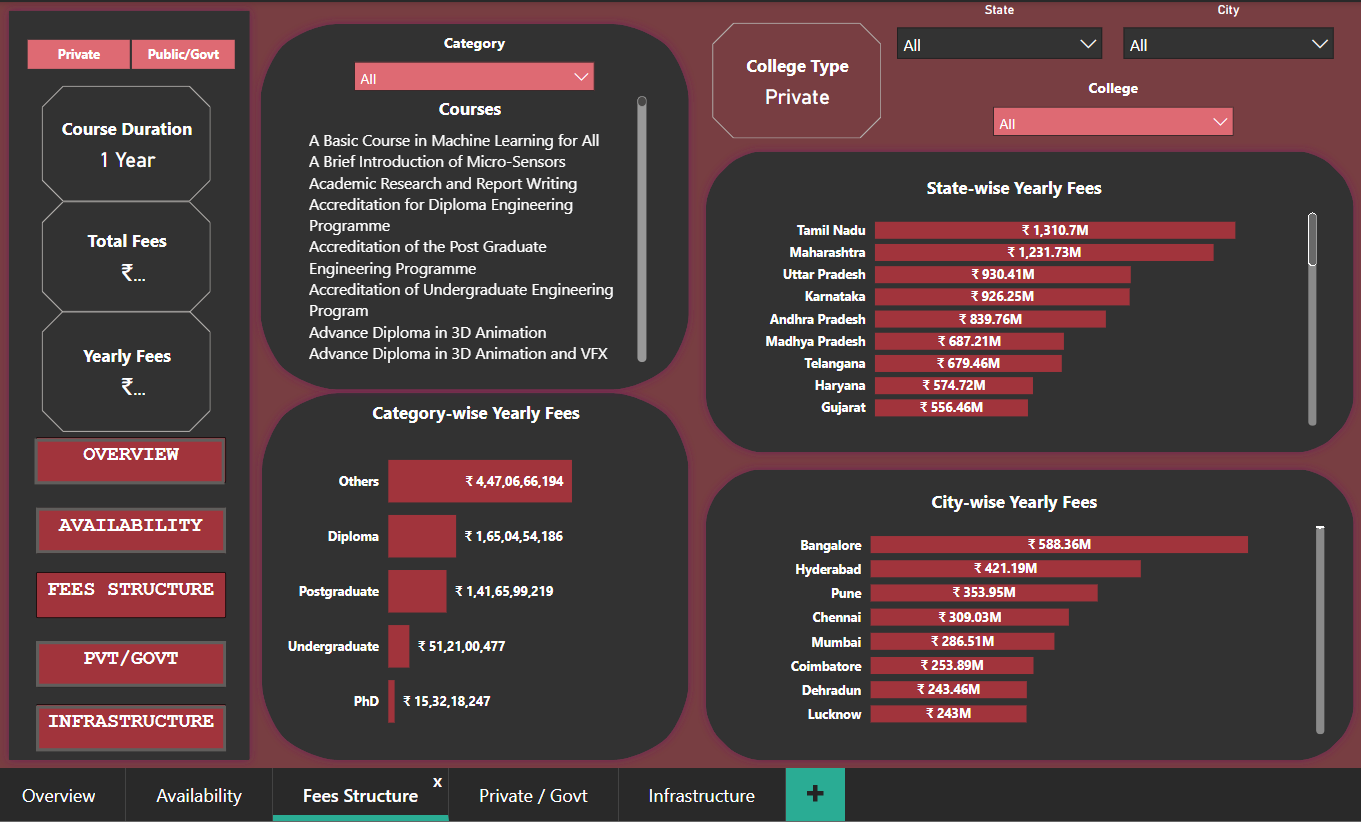

The dashboard page shown, as its layout file describes it:
{"tool":"powerbi","page":{"name":"Fees Structure","canvas":[1280,720],"ordinal":2},"visuals":[{"type":"shape","box":[0,0,242.8,720.5],"z":0},{"type":"shape","box":[655,132.6,624.7,298.8],"z":1000},{"type":"cardVisual","fields":{"Data":["Min(Details.Duration)"]},"box":[33.6,73.5,169.4,119.8],"z":2000},{"type":"slicer","fields":{"Values":["Colleges.College Type"]},"box":[0,28.8,244.4,41.5],"z":3000},{"type":"slicer","title":"City","fields":{"Values":["Colleges.City"]},"box":[1046.5,0,217.3,57.5],"z":4000},{"type":"slicer","title":"State","fields":{"Values":["Colleges.State"]},"box":[834,0,212.5,57.5],"z":5000},{"type":"shape","box":[238.1,359.5,417,361.1],"z":6000},{"type":"barChart","title":"State-wise Yearly Fees","fields":{"Category":["Colleges.State"],"Y":["Sum(Details.Yearly_Fee)"]},"box":[664.6,163,578.4,239.7],"z":7000},{"type":"shape","box":[655,431.4,624.7,289.2],"z":8000},{"type":"barChart","title":"City-wise Yearly Fees","fields":{"Category":["Colleges.City"],"Y":["Sum(Details.Yearly_Fee)"]},"box":[656.6,458.5,592.7,234.9],"z":9000},{"type":"clusteredBarChart","title":"Category-wise Yearly Fees","fields":{"Y":["Sum(Details.Yearly_Fee)"],"Category":["Details.Course_Category"]},"box":[263.6,375.5,367.5,329.1],"z":10000},{"type":"shape","box":[236.5,12.8,418.6,359.5],"z":11000},{"type":"slicer","title":"Category","fields":{"Values":["Details.Course_Category"]},"box":[322.7,28.8,246,60.7],"z":12000},{"type":"tableEx","title":"Courses","fields":{"Values":["Details.Courses"]},"box":[279.6,83.1,333.9,260.4],"z":13000},{"type":"cardVisual","fields":{"Data":["Sum(Details.Yearly_Fee)"]},"box":[33.6,284.4,169.4,124.6],"z":14000},{"type":"cardVisual","fields":{"Data":["Sum(Details.Fee Structure)"]},"box":[33.6,182.1,169.4,115],"z":15000},{"type":"cardVisual","fields":{"Data":["Min(Colleges.College Type)"]},"box":[664.6,14.4,169.4,119.8],"z":16000},{"type":"slicer","title":"College","fields":{"Values":["Colleges.College Name"]},"box":[923.5,70.3,246,60.7],"z":17000},{"type":"textbox","box":[33.6,409,178.9,43.1],"z":18000},{"type":"textbox","box":[33.6,474.5,178.9,43.1],"z":19000},{"type":"textbox","box":[33.6,535.2,178.9,43.1],"z":20000},{"type":"textbox","box":[33.6,659.8,178.9,43.1],"z":21000},{"type":"textbox","box":[33.6,600.7,178.9,43.1],"z":22000},{"type":"actionButton","box":[33.6,661.4,178.9,43.1],"z":23000},{"type":"actionButton","box":[33.6,600.7,178.9,43.1],"z":24000},{"type":"actionButton","box":[33.6,474.5,178.9,43.1],"z":25000},{"type":"actionButton","box":[32,410.6,178.9,43.1],"z":26000}]}

Visuals, with their boxes on the page's 1280x720 design canvas (x1, y1, x2, y2). These are canvas units, not pixel positions in the 1361x822 screenshot, which may show the page scaled, cropped or inside an application window:
shape: x1=0 y1=0 x2=243 y2=720
shape: x1=655 y1=133 x2=1280 y2=431
cardVisual - Min(Details.Duration): x1=34 y1=74 x2=203 y2=193
slicer - Colleges.College Type: x1=0 y1=29 x2=244 y2=70
"City" slicer: x1=1046 y1=0 x2=1264 y2=58
"State" slicer: x1=834 y1=0 x2=1046 y2=58
shape: x1=238 y1=360 x2=655 y2=721
"State-wise Yearly Fees" barChart: x1=665 y1=163 x2=1243 y2=403
shape: x1=655 y1=431 x2=1280 y2=721
"City-wise Yearly Fees" barChart: x1=657 y1=458 x2=1249 y2=693
"Category-wise Yearly Fees" clusteredBarChart: x1=264 y1=376 x2=631 y2=705
shape: x1=236 y1=13 x2=655 y2=372
"Category" slicer: x1=323 y1=29 x2=569 y2=90
"Courses" tableEx: x1=280 y1=83 x2=614 y2=344
cardVisual - Sum(Details.Yearly_Fee): x1=34 y1=284 x2=203 y2=409
cardVisual - Sum(Details.Fee Structure): x1=34 y1=182 x2=203 y2=297
cardVisual - Min(Colleges.College Type): x1=665 y1=14 x2=834 y2=134
"College" slicer: x1=924 y1=70 x2=1170 y2=131
textbox: x1=34 y1=409 x2=212 y2=452
textbox: x1=34 y1=474 x2=212 y2=518
textbox: x1=34 y1=535 x2=212 y2=578
textbox: x1=34 y1=660 x2=212 y2=703
textbox: x1=34 y1=601 x2=212 y2=644
actionButton: x1=34 y1=661 x2=212 y2=704
actionButton: x1=34 y1=601 x2=212 y2=644
actionButton: x1=34 y1=474 x2=212 y2=518
actionButton: x1=32 y1=411 x2=211 y2=454
